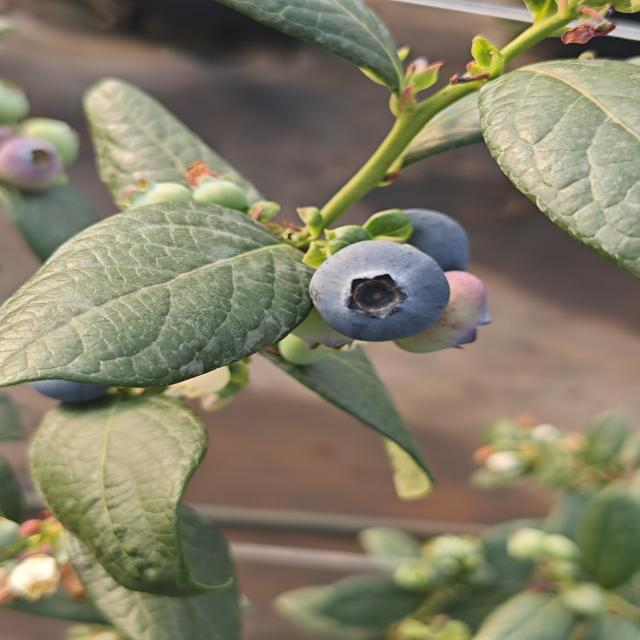ripe: (306, 236, 451, 343), (386, 203, 467, 270), (23, 361, 115, 412)
